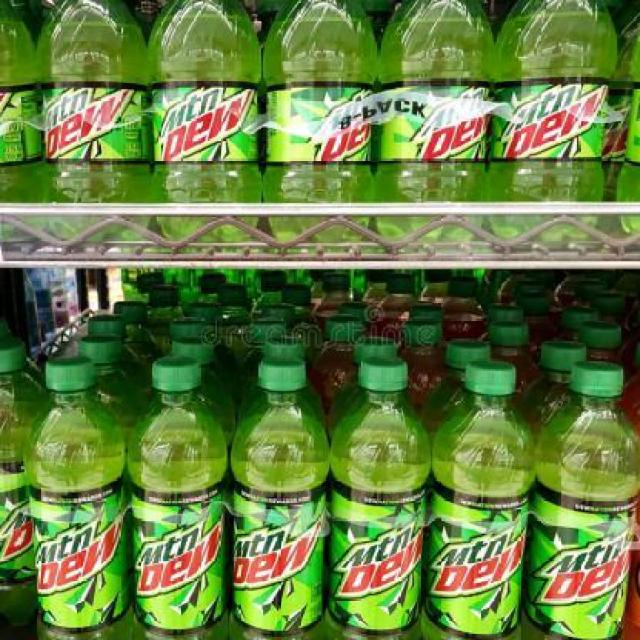Drinks: (492, 1, 618, 244), (431, 359, 537, 639), (126, 358, 231, 640), (22, 356, 126, 639), (227, 356, 331, 639), (534, 361, 638, 639), (330, 356, 432, 639), (35, 0, 151, 245), (376, 1, 492, 244), (261, 0, 376, 243), (150, 0, 262, 243)
